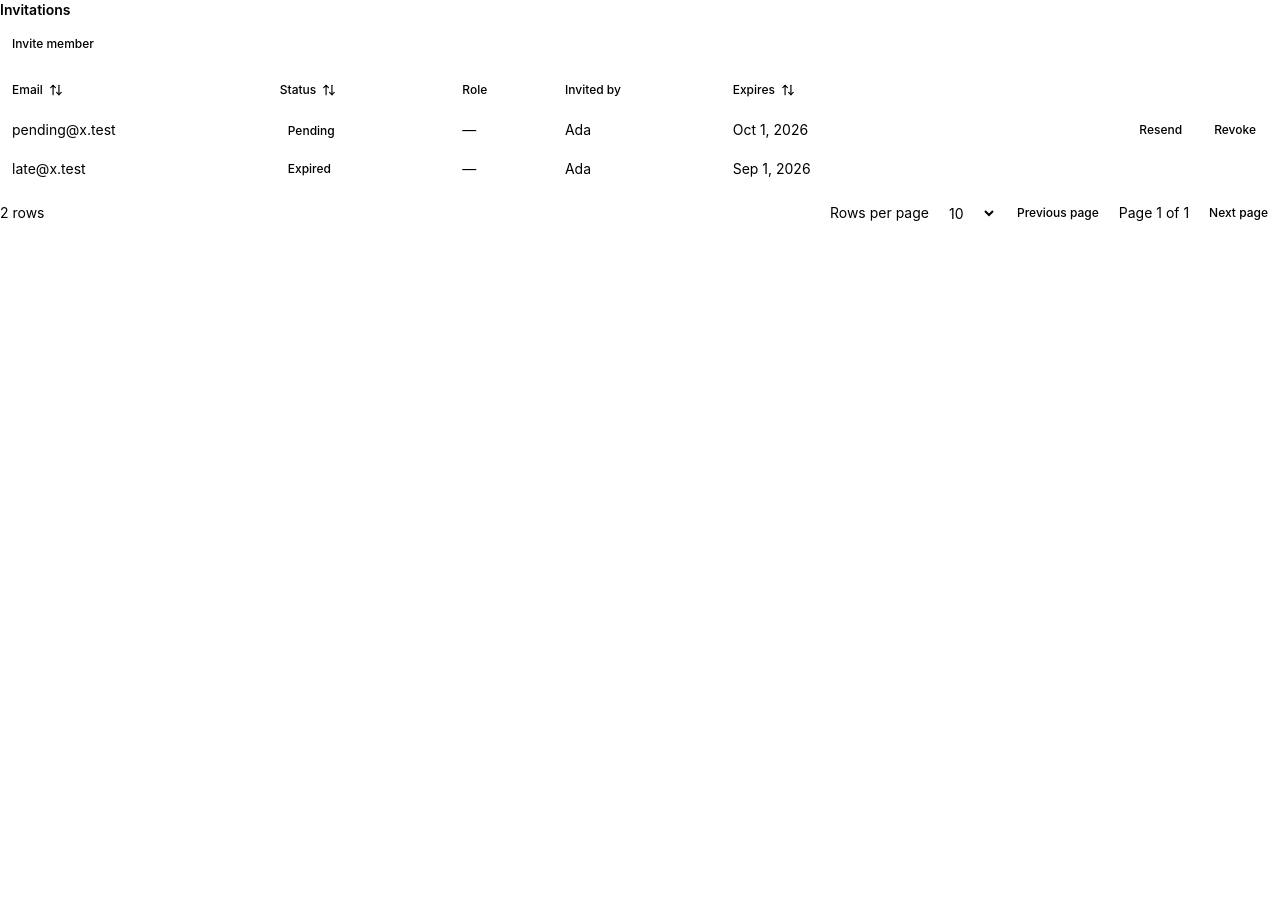
Invite: refusals are named (F-156) › a 5xx keeps the generic send error
Check: the text "pending@x.test" is shown, box [0, 108, 268, 152]
Click the button "Invite member".
click(53, 44)  # box [0, 28, 106, 60]
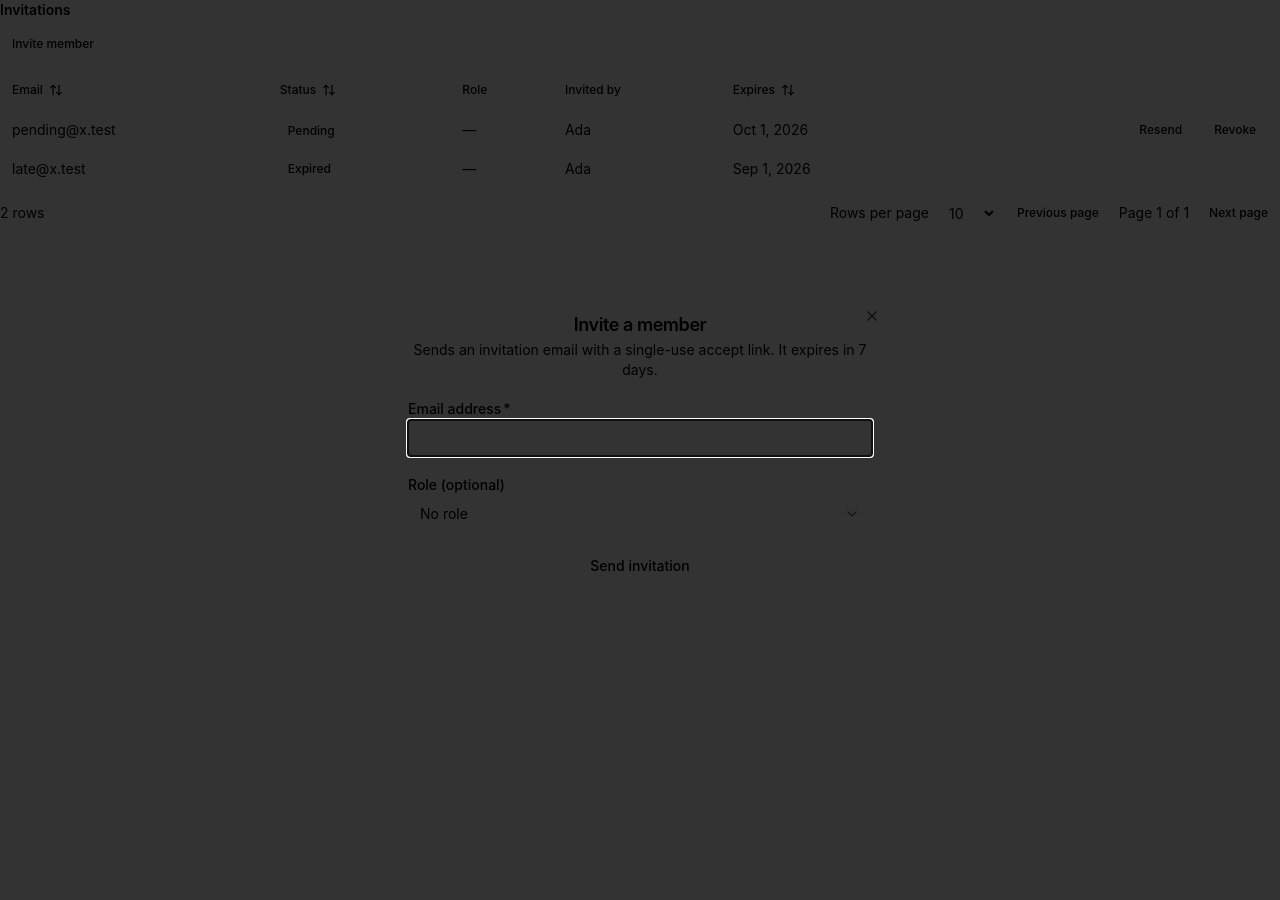
Type "new@x.test" into the field labelled "Email address*".
click(640, 438); type("new@x.test")  # box [408, 420, 872, 456]
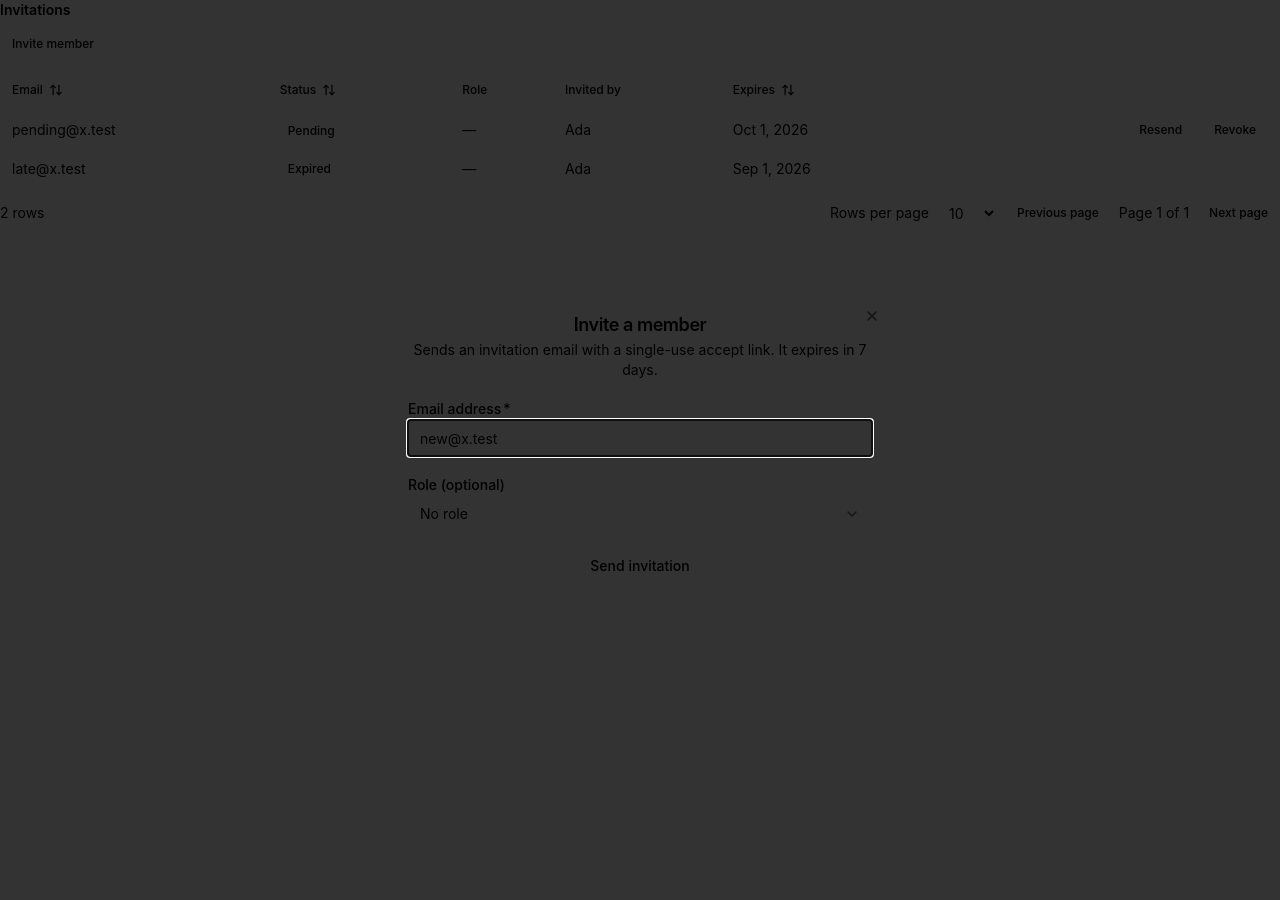
Click the button "Send invitation".
click(640, 566)  # box [408, 548, 872, 584]
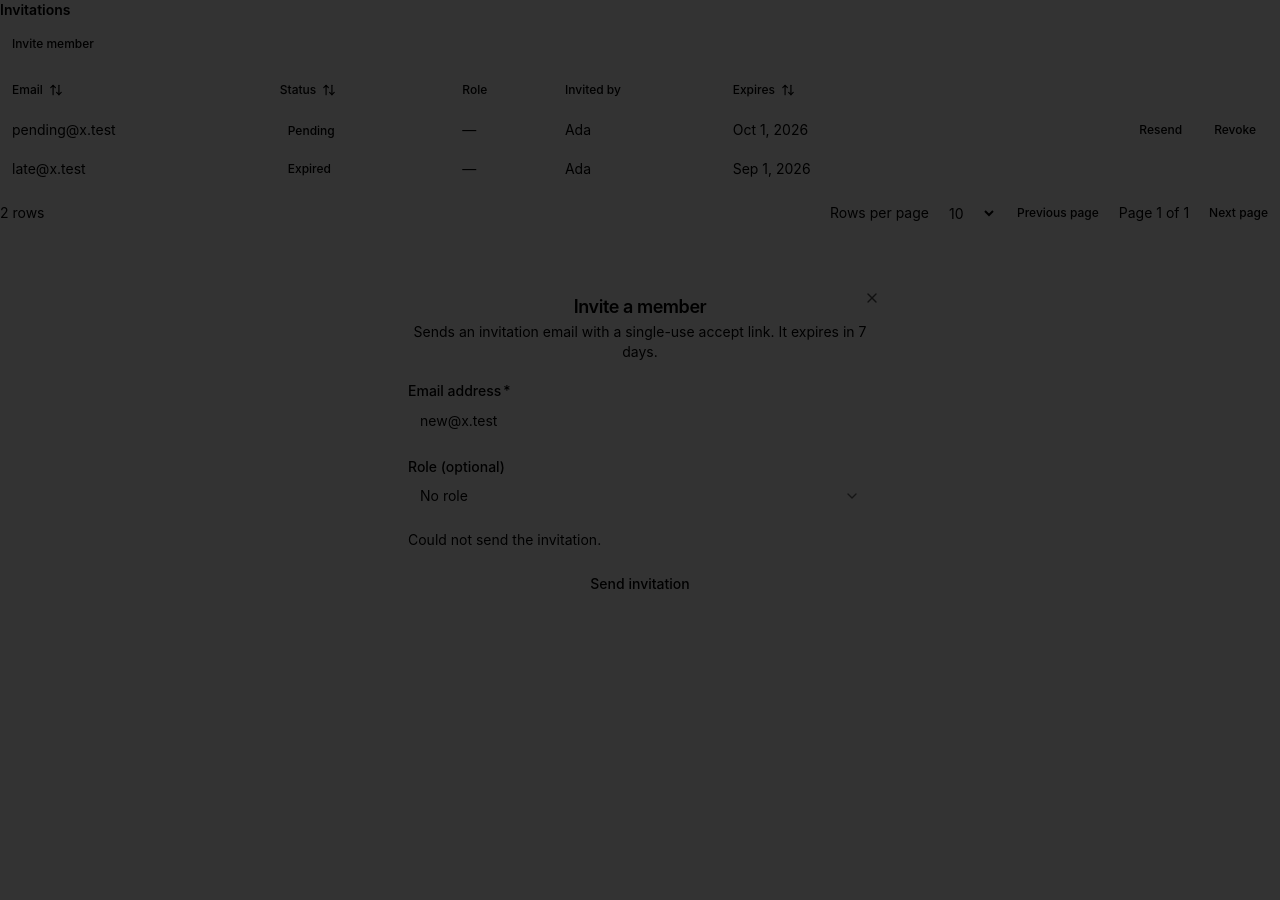
Check: the message reads "Could not send the invitation.", box [408, 531, 601, 548]
